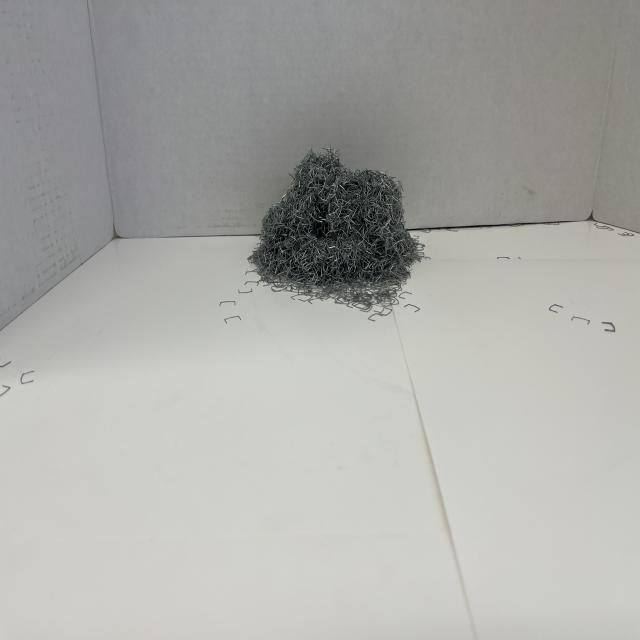staples: (247, 144, 427, 290)
